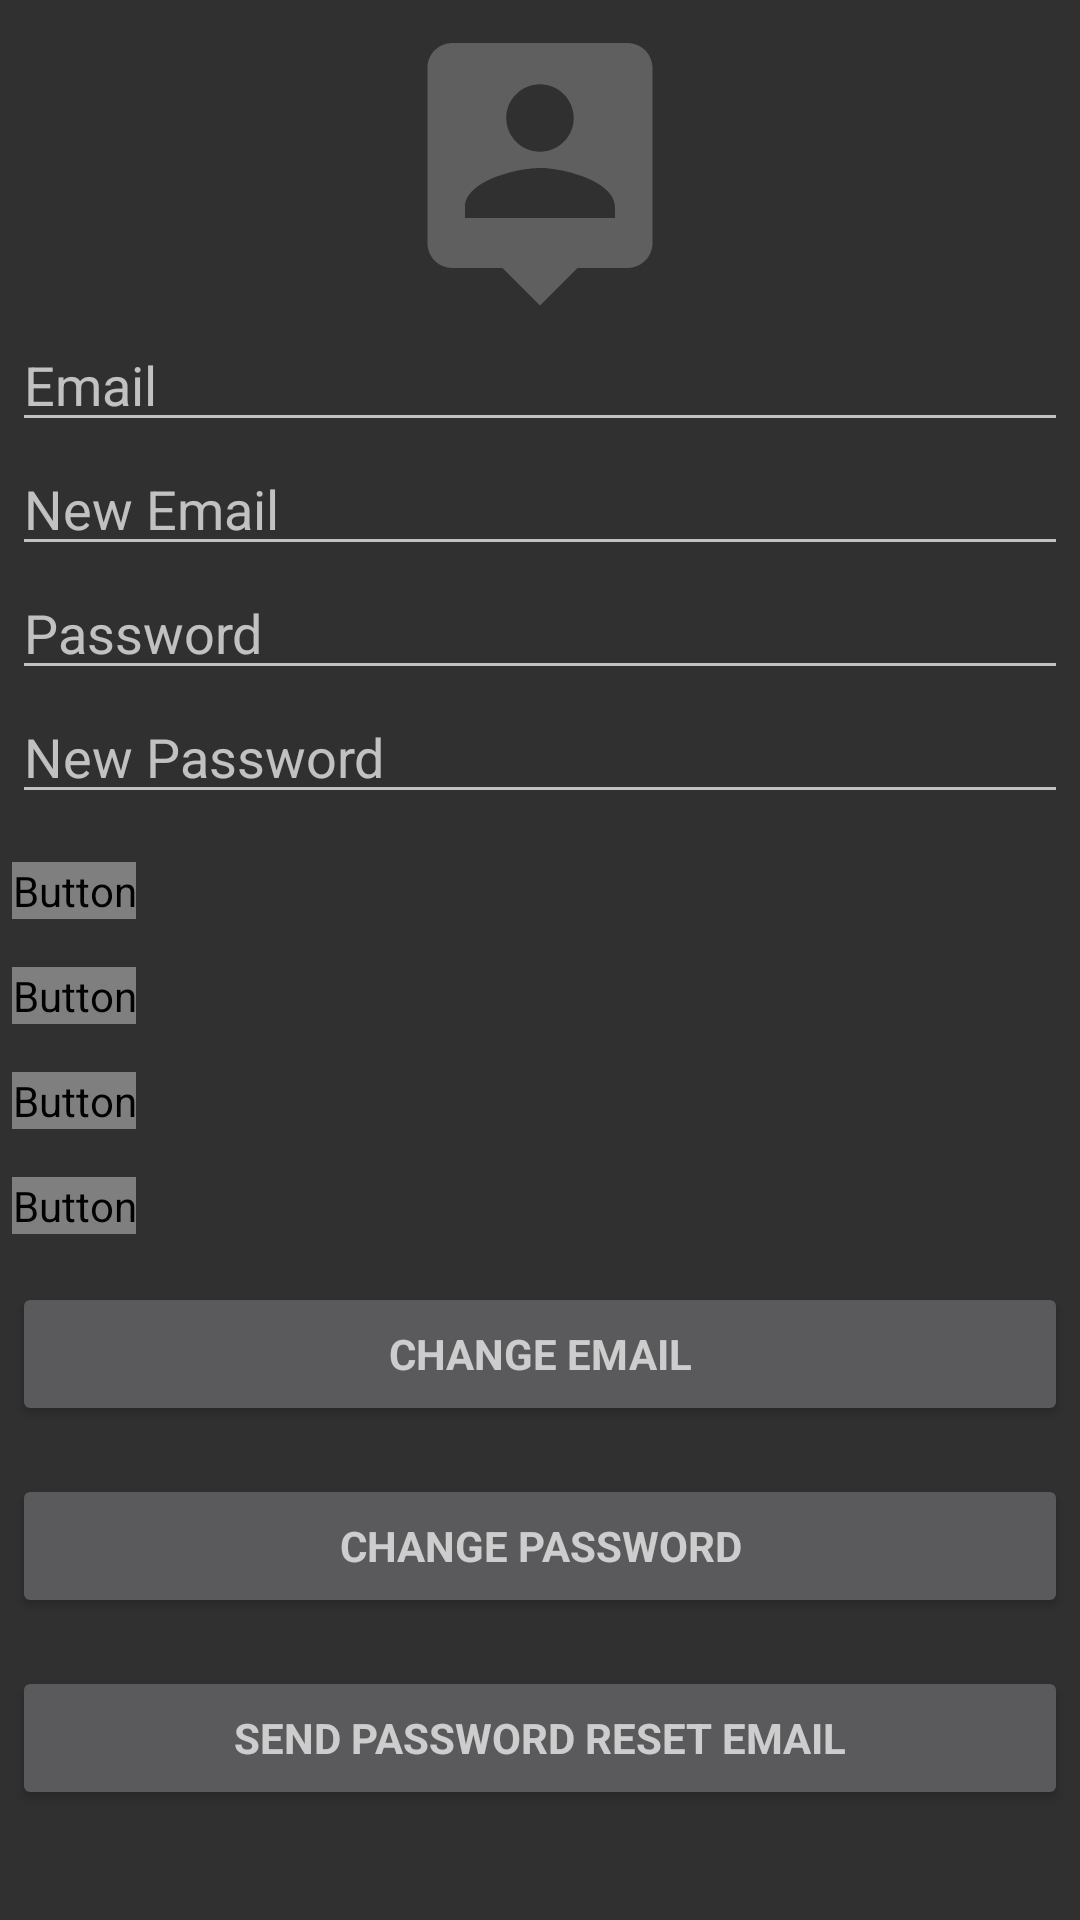

Where icons sit on this 1080px x 1920px app screen, as {"left": x1, "top": y1, "right": x2, "bottom": y2}:
person pin: {"left": 428, "top": 43, "right": 652, "bottom": 305}
